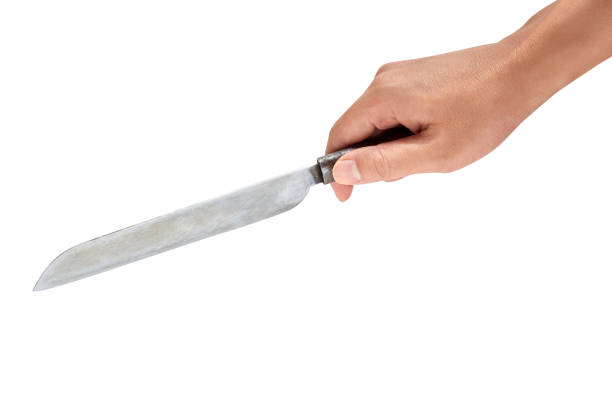knife: (26, 148, 349, 290)
